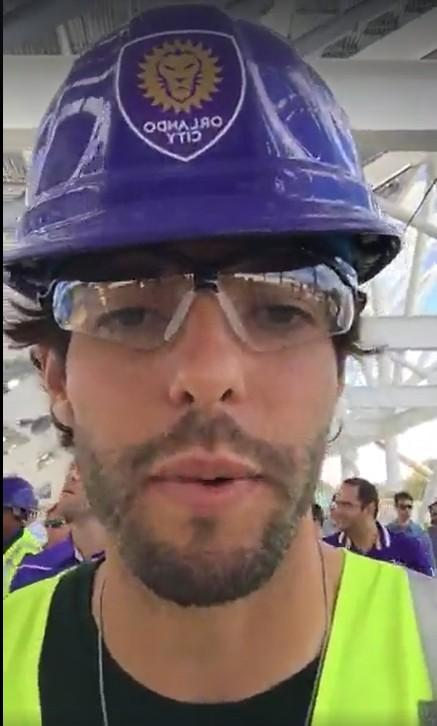helmet: (8, 7, 407, 278)
